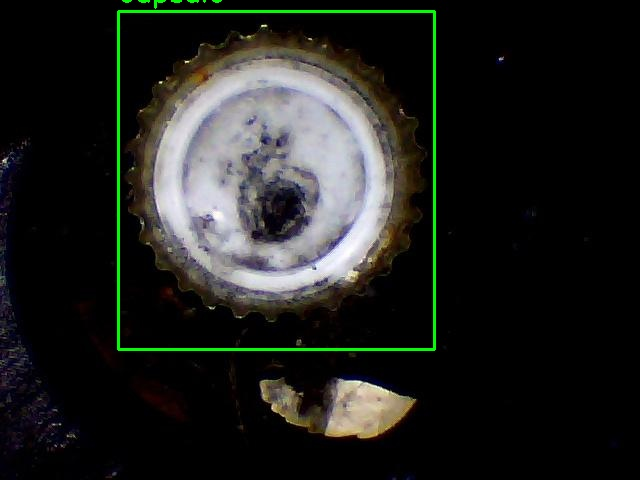capsule: (118, 11, 434, 349)
